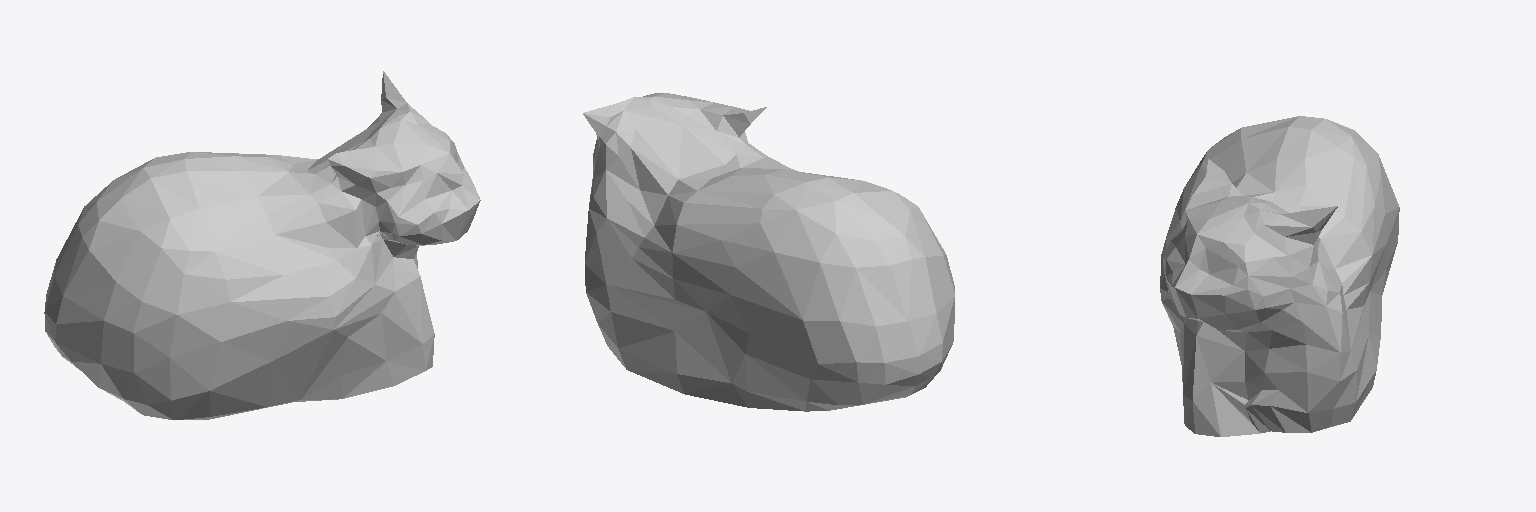
The model's file is dingus.obj.
The picture shows the model from 3 angles: view 1: azimuth 30°, elevation 25°; view 2: azimuth 150°, elevation 25°; view 3: azimuth 270°, elevation 25°; orthographic projection.
Visible parts, largest first — view 1: dingus; view 2: dingus; view 3: dingus.
Boxes of the visible parts, x1,y1,x2,y2 form: dingus: [44, 71, 480, 419]; dingus: [583, 93, 954, 411]; dingus: [1160, 116, 1399, 436].
Bounding box in the file's own units: 2.43 × 1.57 × 1.34.